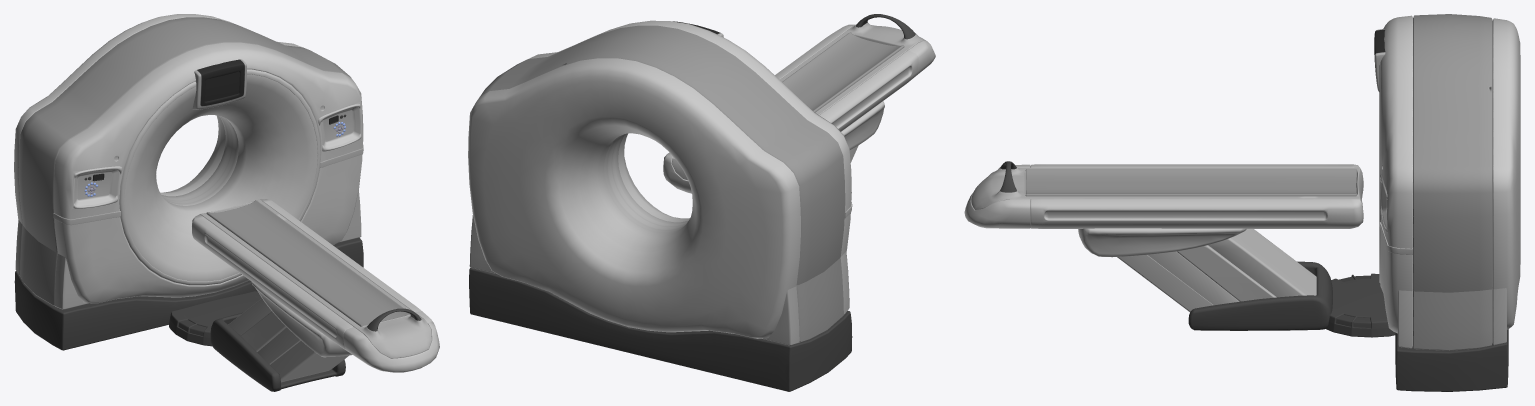
3 views of the same model, side by side, from view 1: azimuth 30°, elevation 25°; view 2: azimuth 150°, elevation 25°; view 3: azimuth 270°, elevation 25° (orthographic). The views are drawn at different scales.
Visible parts, largest first — view 1: Scanner_Stand; view 2: Scanner_Stand; view 3: Scanner_Stand.
Part boxes in pixels (left/top/right/bottom): Scanner_Stand: left=14, top=14, right=439, bottom=391; Scanner_Stand: left=468, top=14, right=935, bottom=391; Scanner_Stand: left=964, top=14, right=1520, bottom=391.
Size of the model in its own units: 1.52 by 1.25 by 2.22.
Materials: 2 (2 with a texture image).
